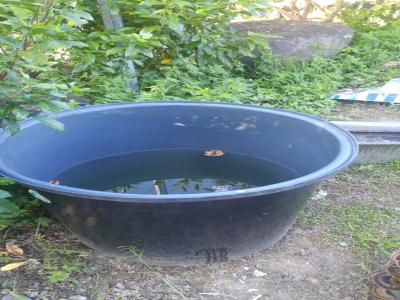bucket: (2, 98, 363, 265)
